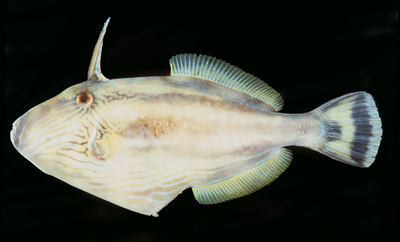fish: (10, 17, 383, 217)
